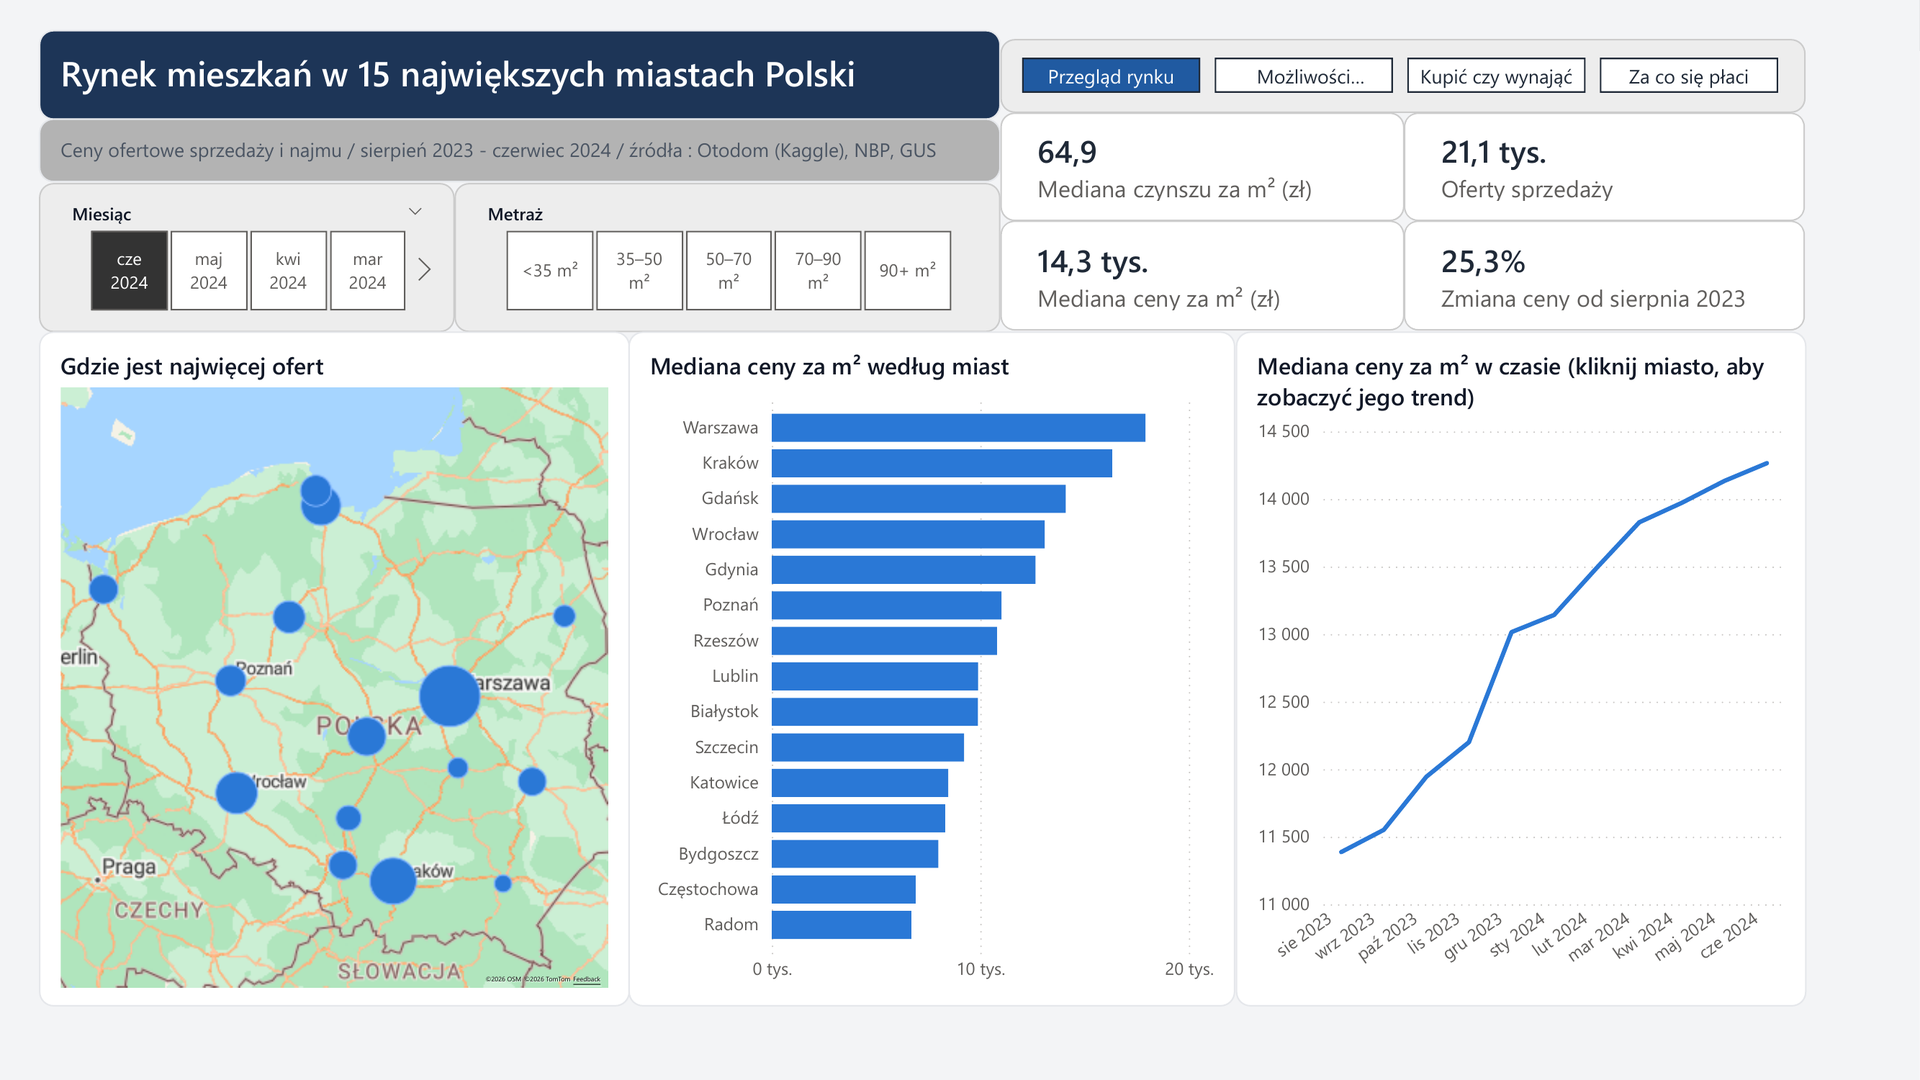

The dashboard page shown, as its layout file describes it:
{"tool":"powerbi","page":{"name":"Przegląd rynku","canvas":[1280,720],"ordinal":0},"visuals":[{"type":"textbox","box":[26.5,21,664.3,61.9],"z":0},{"type":"textbox","box":[26.5,81.8,664.3,44.2],"z":1000},{"type":"pageNavigator","box":[690.8,26.5,556,50.8],"z":2000},{"type":"slicer","fields":{"Values":["dim_month.month_label"]},"box":[26.5,126,287.4,102.8],"z":3000},{"type":"slicer","fields":{"Values":["dim_listing.size_band"]},"box":[313.9,126,376.9,102.8],"z":4000},{"type":"cardVisual","title":"Mediana ceny za m² (zł)","fields":{"Data":["_Measures.Median Price per m2"]},"box":[690.8,152.5,278.5,76.3],"z":5000},{"type":"cardVisual","title":"Zmiana ceny od sierpnia 2023","fields":{"Data":["_Measures.Price Change Since Start %"]},"box":[969.4,152.5,277.4,76.3],"z":6000},{"type":"cardVisual","title":"Mediana czynszu za m² (zł)","fields":{"Data":["_Measures.Median Rent per m2"]},"box":[690.8,77.4,278.5,75.2],"z":7000},{"type":"cardVisual","title":"Oferty sprzedaży","fields":{"Data":["_Measures.Sale Offers"]},"box":[969.4,77.4,277.4,75.2],"z":8000},{"type":"azureMap","title":"Gdzie jest najwięcej ofert","fields":{"Category":["dim_city.city_name"],"Y":["Avg(dim_city.latitude)"],"X":["Avg(dim_city.longitude)"],"Size":["_Measures.Sale Offers"]},"box":[26.5,228.8,407.9,466.5],"z":9000},{"type":"clusteredBarChart","title":"Mediana ceny za m² według miast","fields":{"Category":["dim_city.city_name"],"Y":["_Measures.Median Price per m2"]},"box":[434.4,228.8,418.9,466.5],"z":10000},{"type":"lineChart","title":"Mediana ceny za m² w czasie (kliknij miasto, aby zobaczyć jego trend)","fields":{"Category":["dim_month.month_label"],"Y":["_Measures.Median Price per m2"]},"box":[853.3,228.8,393.5,466.5],"z":11000}]}

Visuals, with their boxes in screenshot pixels (x1, y1, x2, y2), scaled from the page's 1280x720 canvas onto the 1920x1080 screenshot:
textbox: box(40, 32, 1036, 124)
textbox: box(40, 123, 1036, 189)
pageNavigator: box(1036, 40, 1870, 116)
slicer - dim_month.month_label: box(40, 189, 471, 343)
slicer - dim_listing.size_band: box(471, 189, 1036, 343)
"Mediana ceny za m² (zł)" cardVisual: box(1036, 229, 1454, 343)
"Zmiana ceny od sierpnia 2023" cardVisual: box(1454, 229, 1870, 343)
"Mediana czynszu za m² (zł)" cardVisual: box(1036, 116, 1454, 229)
"Oferty sprzedaży" cardVisual: box(1454, 116, 1870, 229)
"Gdzie jest najwięcej ofert" azureMap: box(40, 343, 652, 1043)
"Mediana ceny za m² według miast" clusteredBarChart: box(652, 343, 1280, 1043)
"Mediana ceny za m² w czasie (kliknij miasto, aby zobaczyć jego trend)" lineChart: box(1280, 343, 1870, 1043)
